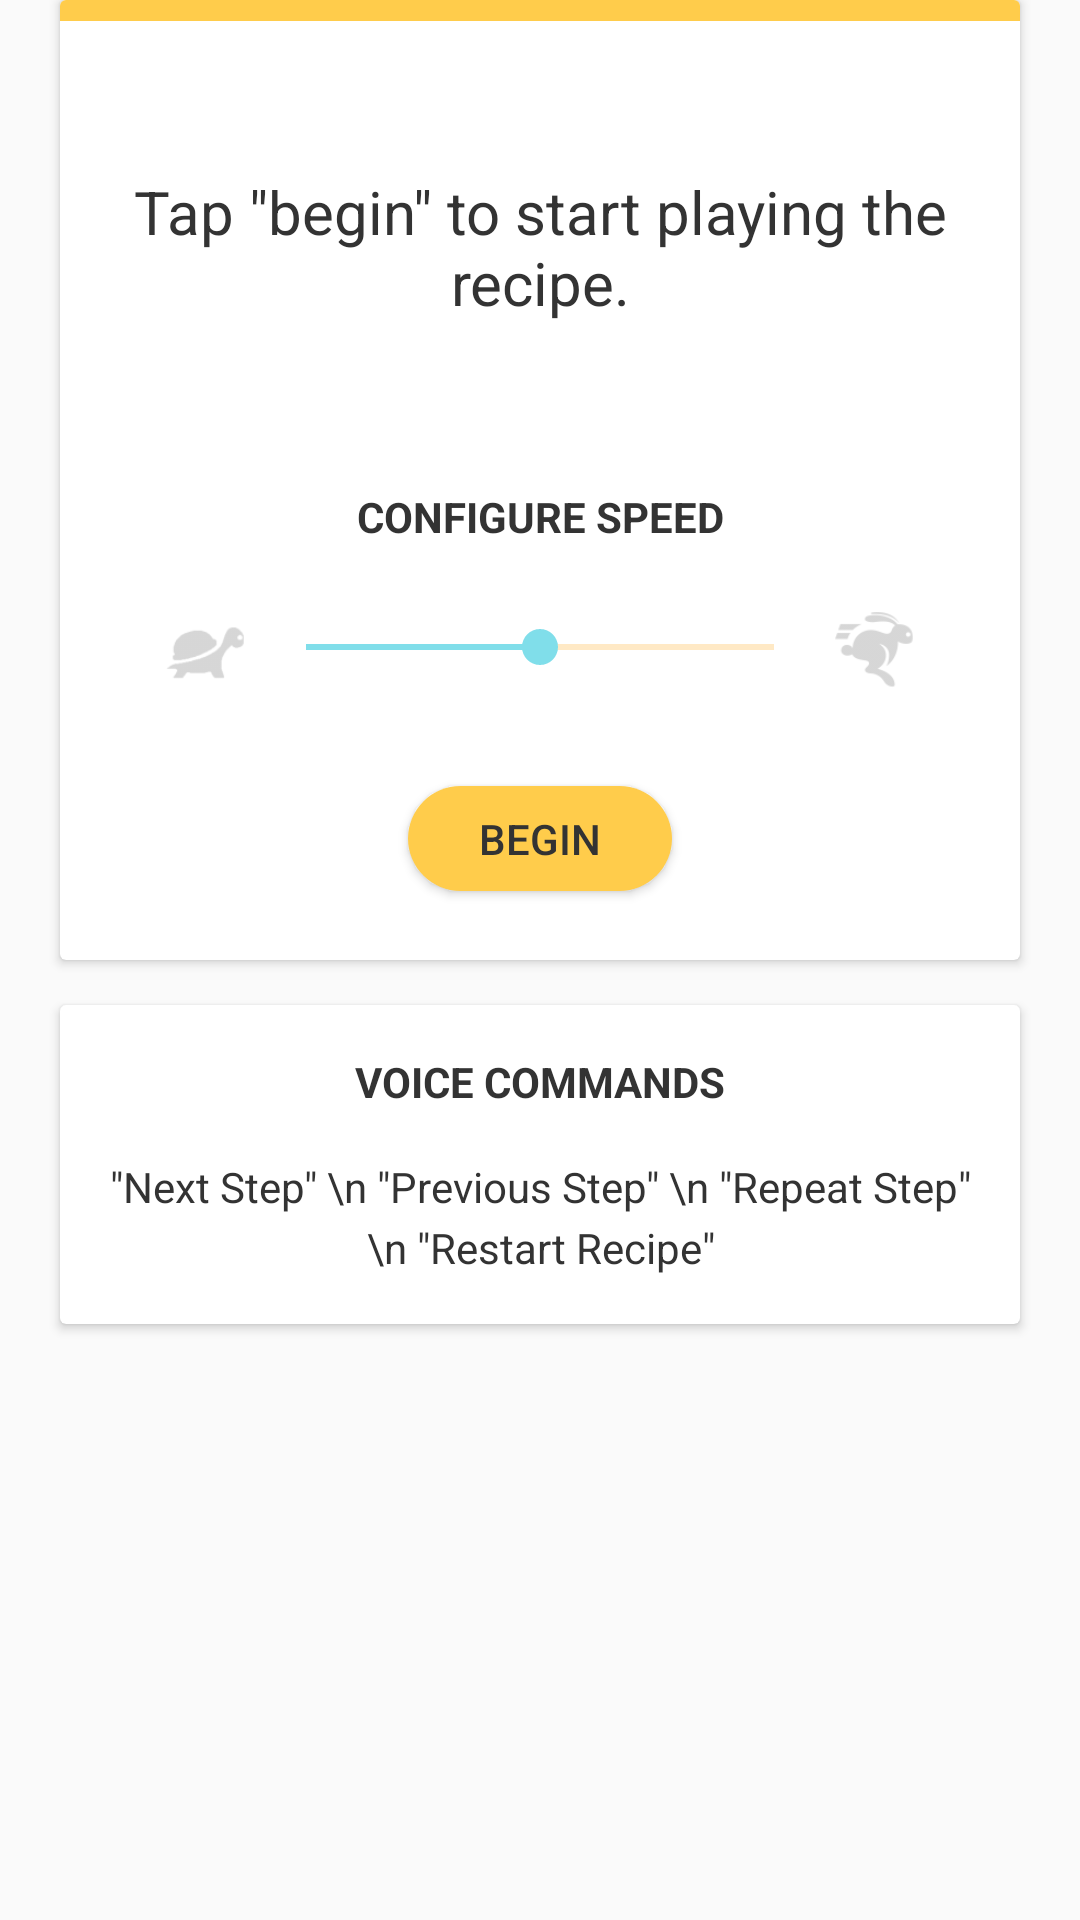

Screen size 1080px x 1920px. Icon name, then its box in pixels as (x1, y1, x2, y2):
fast rabbit: (836, 612, 913, 686)
slow turtle: (168, 628, 244, 678)
